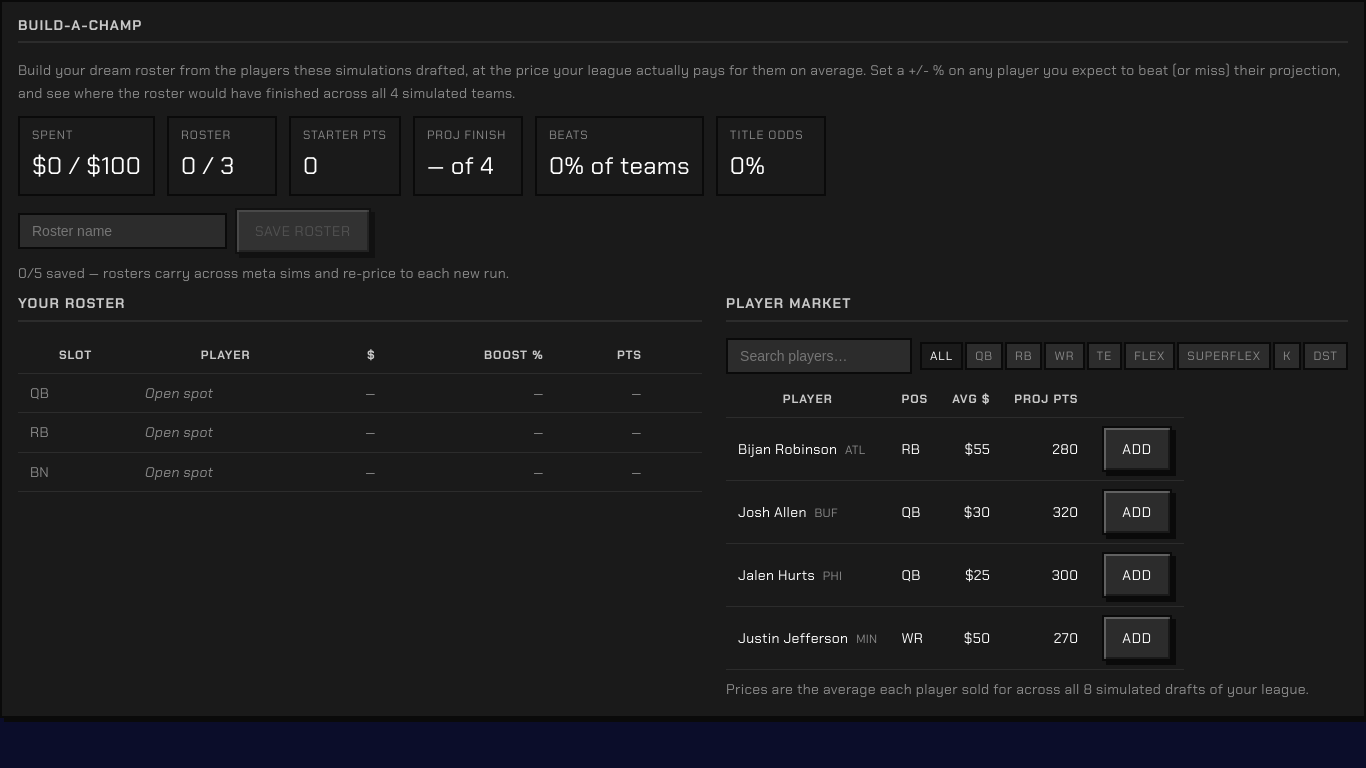
Test: BuildAChampTab › adds players: cost, starter points, and projected finish update
Click the button "Add" in the row of "Josh Allen": x=1137, y=512 [1102, 489, 1172, 535]
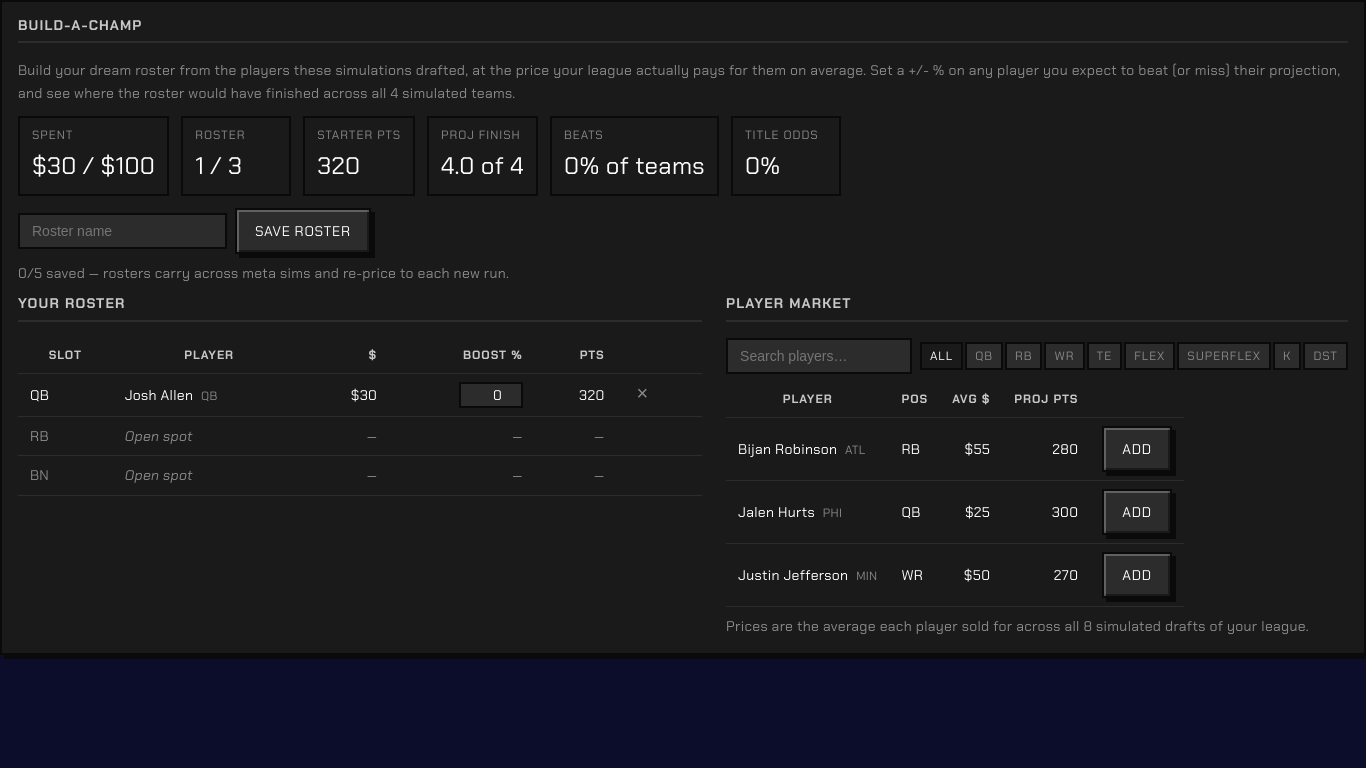
Click the button "Add" in the row of "Bijan Robinson": x=1137, y=449 [1102, 426, 1172, 472]
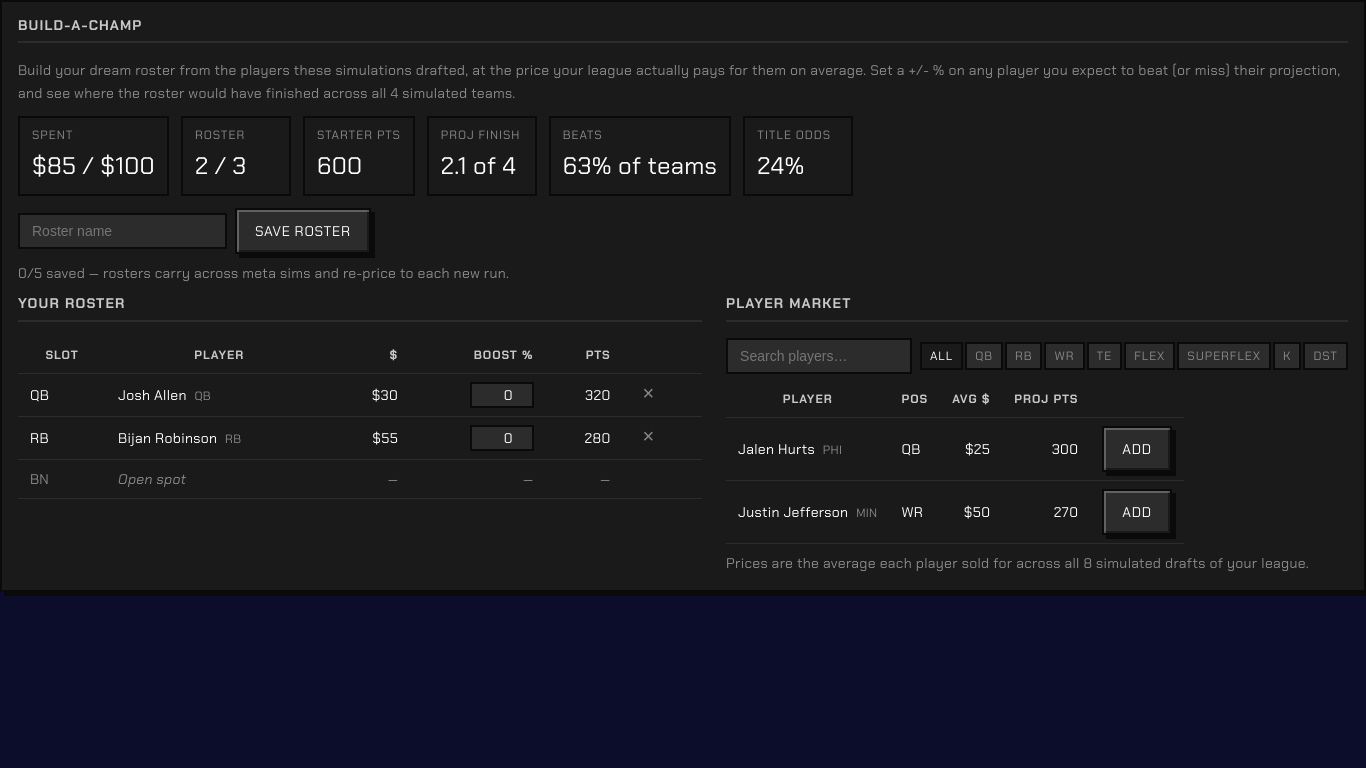
Check: the text with class "champ-stat-value" reads "2.1 of 4", box [441, 147, 523, 186]
Check: the text with class "champ-stat-value" reads "63% of teams", box [563, 147, 717, 186]
